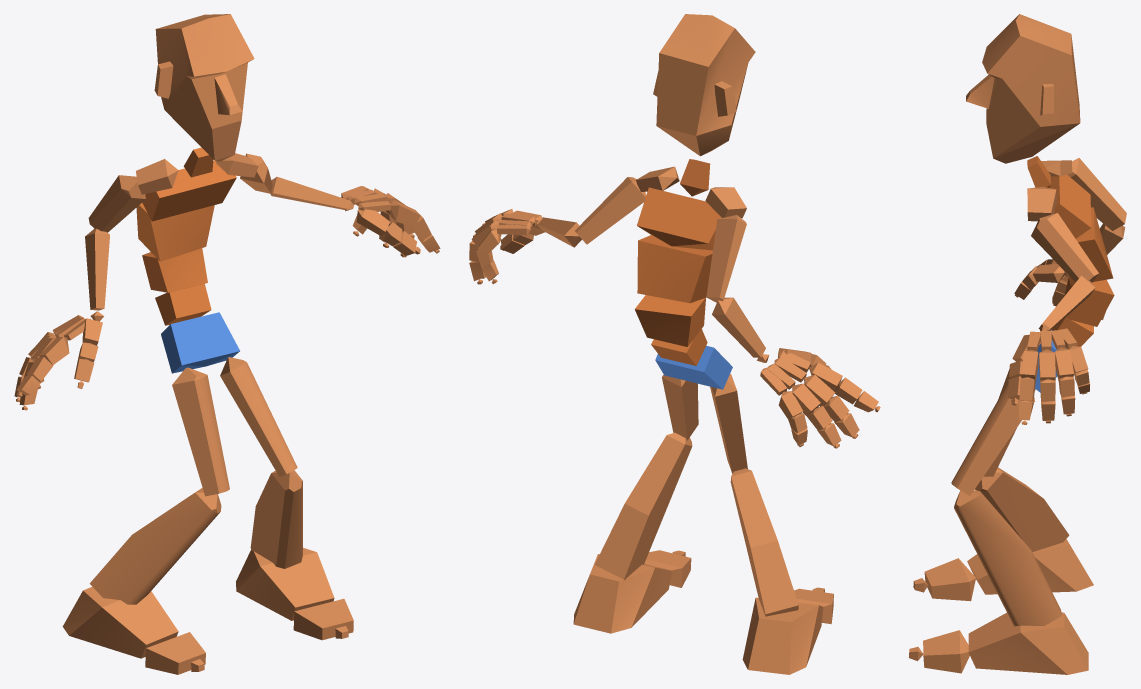
The model's file is prueba29.obj.
3 renders of one model, left to right at view 1: azimuth 30°, elevation 25°; view 2: azimuth 150°, elevation 25°; view 3: azimuth 270°, elevation 25°, orthographic.
Visible parts, largest first — view 1: BOPED_Head, BOPED_R_leg, BOPED_R_foot, BOPED_R_foot01, BOPED_L_leg, BOPED_R_legup, BOPED_L_legup, Bone01, Bone04, Bone05, Bone03, BOPED_R_arm_upper (+9 smaller); view 2: BOPED_Head, BOPED_L_leg, BOPED_R_leg, BOPED_R_foot01, BOPED_R_foot, Bone04, Bone05, Bone03, BOPED_R_arm_upper, BOPED_R_legup, BOPED_L_arm_upper, Bone01 (+9 smaller); view 3: BOPED_Head, BOPED_L_leg, BOPED_R_foot01, BOPED_R_leg, BOPED_L_legup, BOPED_R_foot, BOPED_L_arm_upper, Bone05, BOPED_R_foot_toe01, BOPED_R_arm_upper, BOPED_R_foot_toe04, Bone03 (+15 smaller).
Boxes of the visible parts, box(x1,y1,x2,y2) form: BOPED_Head: box(154, 14, 254, 161); BOPED_R_leg: box(89, 488, 221, 604); BOPED_R_foot: box(62, 586, 178, 658); BOPED_R_foot01: box(236, 547, 334, 620); BOPED_L_leg: box(250, 470, 302, 568); BOPED_R_legup: box(172, 367, 229, 496); BOPED_L_legup: box(220, 357, 297, 476); Bone01: box(161, 312, 239, 373); Bone04: box(136, 203, 214, 261); Bone05: box(142, 160, 236, 221); Bone03: box(142, 248, 207, 292); BOPED_R_arm_upper: box(88, 175, 145, 232); BOPED_Head: box(653, 14, 755, 156); BOPED_L_leg: box(594, 432, 692, 579); BOPED_R_leg: box(730, 468, 798, 616); BOPED_R_foot01: box(573, 554, 672, 633); BOPED_R_foot: box(742, 597, 823, 674); Bone04: box(637, 235, 712, 303); Bone05: box(637, 187, 721, 250); Bone03: box(634, 295, 705, 346); BOPED_R_arm_upper: box(706, 215, 746, 302); BOPED_R_legup: box(710, 373, 747, 473); BOPED_L_arm_upper: box(575, 177, 646, 244); Bone01: box(655, 345, 732, 389); BOPED_Head: box(966, 14, 1080, 163); BOPED_L_leg: box(954, 490, 1061, 626); BOPED_R_foot01: box(968, 612, 1088, 674); BOPED_R_leg: box(974, 467, 1069, 551); BOPED_L_legup: box(951, 382, 1034, 495); BOPED_R_foot: box(967, 539, 1093, 594); BOPED_L_arm_upper: box(1031, 213, 1098, 282); Bone05: box(1049, 174, 1091, 238); BOPED_R_foot_toe01: box(924, 558, 975, 601); BOPED_R_arm_upper: box(1067, 158, 1126, 230); BOPED_R_foot_toe04: box(923, 630, 969, 673); Bone03: box(1064, 277, 1114, 326).
Size of the model in its own units: 130 by 182 by 59.9.
